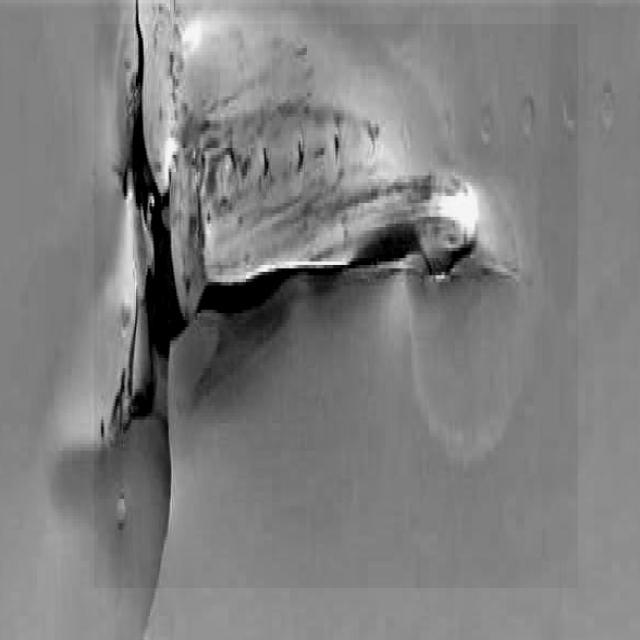crack: (95, 25, 579, 589)
